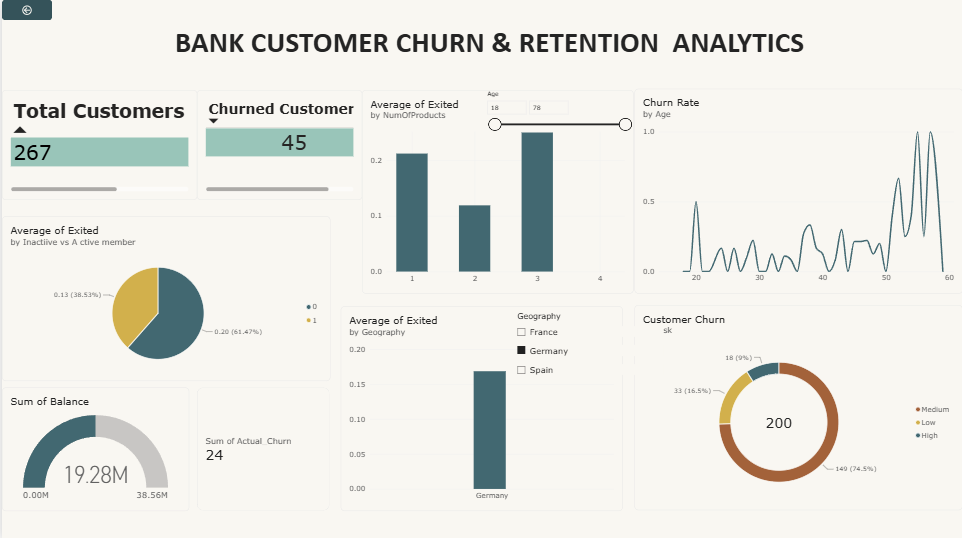

What the dashboard file says about the page in this screenshot:
{"tool":"powerbi","page":{"name":"Page 1","canvas":[1920,1080],"ordinal":0},"visuals":[{"type":"tableEx","fields":{"Values":["CountNonNull(Bank_Customer_Churn_SQL_Ready.CustomerId)"]},"box":[0,180,390,220],"z":0},{"type":"tableEx","fields":{"Values":["Sum(Bank_Customer_Churn_SQL_Ready.Exited)"]},"box":[390,180,330,220],"z":1000},{"type":"columnChart","fields":{"Y":["Avg(Bank_Customer_Churn_SQL_Ready.Exited)"],"Category":["Bank_Customer_Churn_SQL_Ready.Geography"]},"box":[677.2,611.3,564,409.6],"z":3000},{"type":"lineChart","fields":{"Category":["Bank_Customer_Churn_SQL_Ready.Age"],"Y":["Avg(Bank_Customer_Churn_SQL_Ready.Exited)"]},"box":[1263.8,177,656.6,409.6],"z":4000},{"type":"pieChart","fields":{"Category":["Bank_Customer_Churn_SQL_Ready.IsActiveMember"],"Y":["Avg(Bank_Customer_Churn_SQL_Ready.Exited)"]},"box":[0,432.2,656.6,329.3],"z":5000},{"type":"textbox","box":[331.4,47.3,1284.4,72],"z":6000},{"type":"textbox","box":[1675.5,102,181,150],"z":7000},{"type":"gauge","fields":{"Y":["Sum(Bank_Customer_Churn_SQL_Ready.Balance)"]},"box":[0,773.9,374.6,247],"z":8000},{"type":"cardVisual","fields":{"Data":["Sum(customer_churn_predictions.Actual_Churn)"]},"box":[391.1,773.9,265.5,247],"z":9000},{"type":"actionButton","box":[0,0,100,40],"z":10000},{"type":"clusteredColumnChart","fields":{"Category":["Bank_Customer_Churn_SQL_Ready.NumOfProducts"],"Y":["Avg(Bank_Customer_Churn_SQL_Ready.Exited)"]},"box":[720,180,543.1,407.3],"z":10001},{"type":"donutChart","fields":{"Category":["customer_churn_predictions.Risk"],"Y":["CountNonNull(customer_churn_predictions.Risk)"]},"box":[1264,611,656,410],"z":10002},{"type":"slicer","fields":{"Values":["Bank_Customer_Churn_SQL_Ready.Geography"]},"box":[1023.3,623.3,300,300],"z":10003},{"type":"slicer","fields":{"Values":["Bank_Customer_Churn_SQL_Ready.Age"]},"box":[962.5,180,300.6,91.2],"z":10004}]}

Visuals, with their boxes in screenshot pixels (x1, y1, x2, y2), scaled from the page's 1920x1080 canvas onto the 962x538 screenshot:
tableEx - CountNonNull(Bank_Customer_Churn_SQL_Ready.CustomerId): crop(0, 90, 195, 199)
tableEx - Sum(Bank_Customer_Churn_SQL_Ready.Exited): crop(195, 90, 361, 199)
columnChart - Avg(Bank_Customer_Churn_SQL_Ready.Exited) x Bank_Customer_Churn_SQL_Ready.Geography: crop(339, 305, 622, 509)
lineChart - Bank_Customer_Churn_SQL_Ready.Age x Avg(Bank_Customer_Churn_SQL_Ready.Exited): crop(633, 88, 961, 292)
pieChart - Bank_Customer_Churn_SQL_Ready.IsActiveMember x Avg(Bank_Customer_Churn_SQL_Ready.Exited): crop(0, 215, 329, 379)
textbox: crop(166, 24, 810, 59)
textbox: crop(839, 51, 930, 126)
gauge - Sum(Bank_Customer_Churn_SQL_Ready.Balance): crop(0, 386, 188, 509)
cardVisual - Sum(customer_churn_predictions.Actual_Churn): crop(196, 386, 329, 509)
actionButton: crop(0, 0, 50, 20)
clusteredColumnChart - Bank_Customer_Churn_SQL_Ready.NumOfProducts x Avg(Bank_Customer_Churn_SQL_Ready.Exited): crop(361, 90, 633, 293)
donutChart - customer_churn_predictions.Risk x CountNonNull(customer_churn_predictions.Risk): crop(633, 304, 961, 509)
slicer - Bank_Customer_Churn_SQL_Ready.Geography: crop(513, 310, 663, 460)
slicer - Bank_Customer_Churn_SQL_Ready.Age: crop(482, 90, 633, 135)
